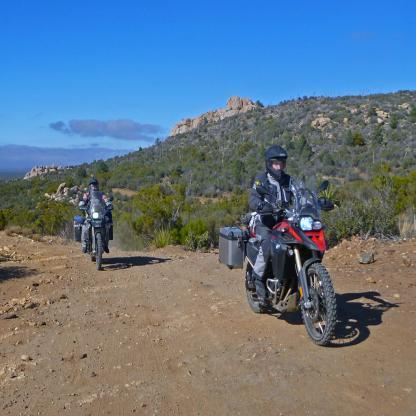helmet: (264, 145, 289, 182), (88, 178, 99, 196)
